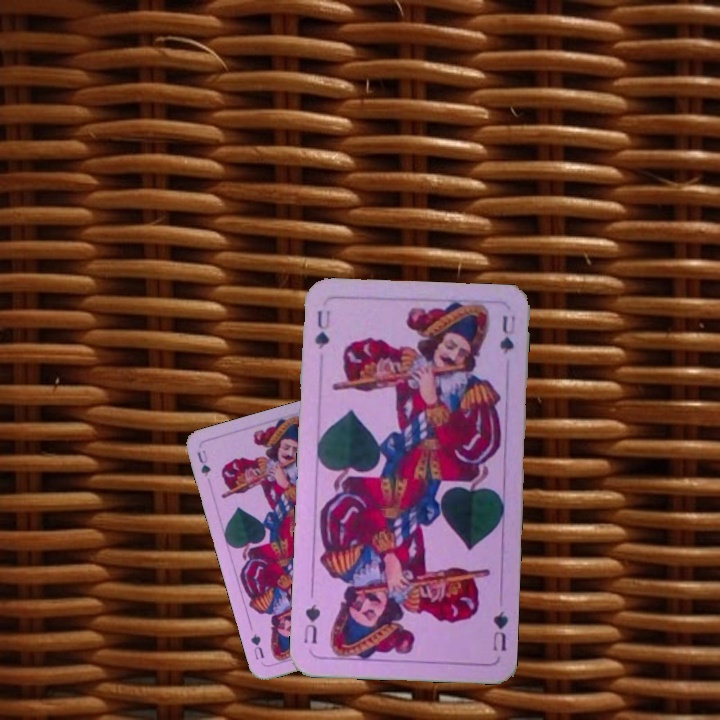GU: (311, 306, 333, 352), (489, 607, 510, 654), (193, 446, 213, 479)
